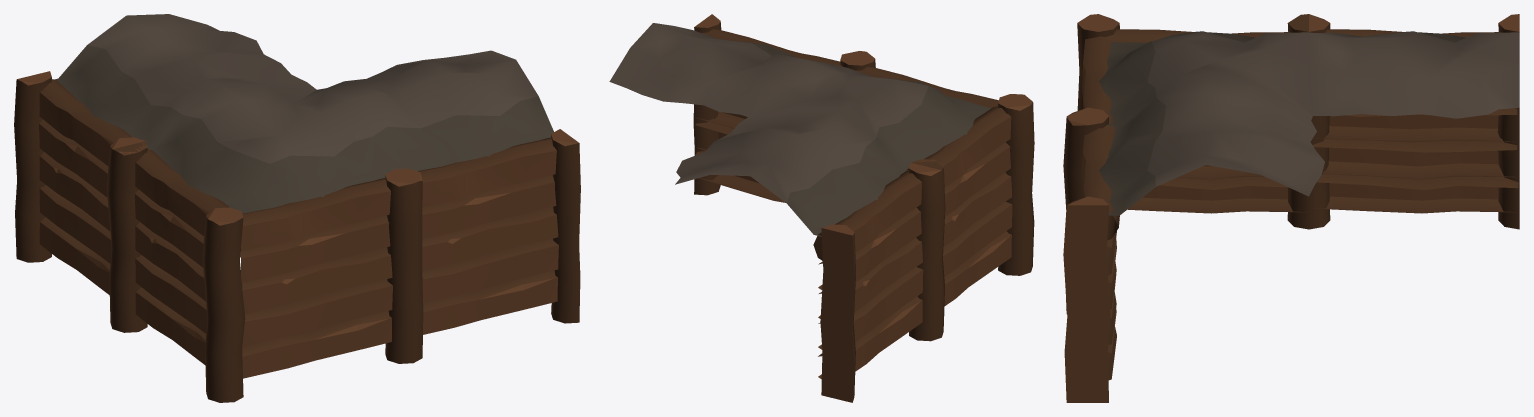
Rendered from 20C_trench_conner_200.fbx.
The picture shows the model from 3 angles, left to right: view 1: azimuth 30°, elevation 25°; view 2: azimuth 150°, elevation 25°; view 3: azimuth 270°, elevation 25°; orthographic projection. The views are drawn at different scales.
Visible parts, largest first — view 1: 20C_trench_conner_200; view 2: 20C_trench_conner_200; view 3: 20C_trench_conner_200.
Boxes of the visible parts, box(x1,y1,x2,y2) form: 20C_trench_conner_200: box(14, 14, 580, 402); 20C_trench_conner_200: box(609, 14, 1034, 402); 20C_trench_conner_200: box(1063, 14, 1519, 402).
Bounding box in the file's own units: 43.33 × 24.96 × 43.33.
1 material, 1 textured.
